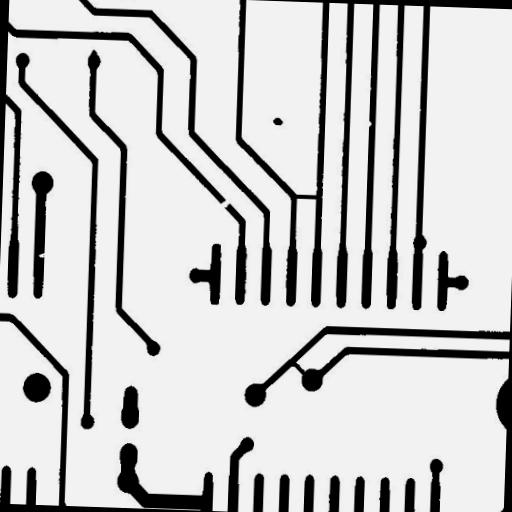copper: (264, 109, 290, 132)
mousebite: (356, 112, 378, 134), (30, 244, 53, 265)
open: (212, 190, 238, 214)
short: (281, 354, 314, 384), (286, 186, 326, 206)
